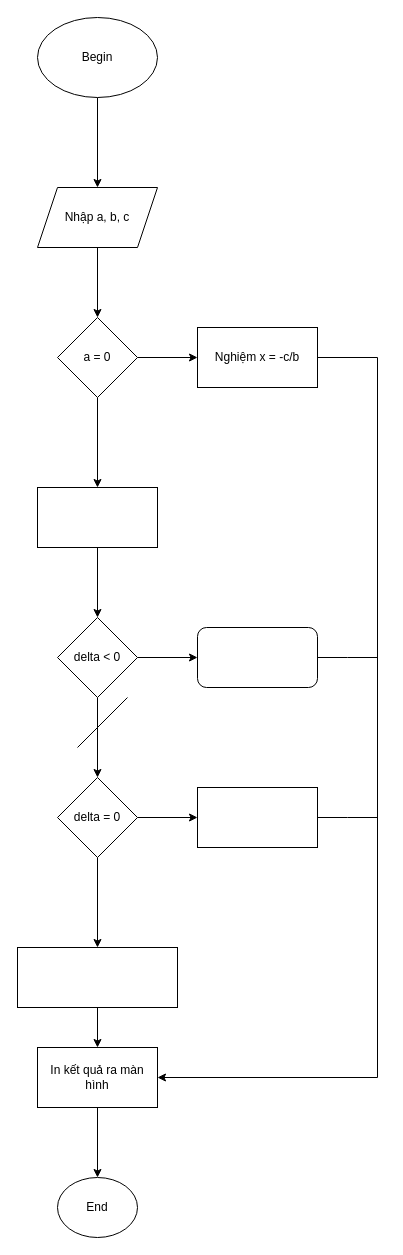
The diagram is 403 pixels wide and 1255 high, and some of its shapes have lost their labels. Each missing label, with the centre of its shape:
delta = b 2 - 4ac: point (97, 517)
PT vô nghiệm: point (257, 657)
x = -b/2a: point (257, 817)
x1=(-b+ sqrt(delta))/2a x2=(-b- sqrt(delta))/2a: point (97, 977)
